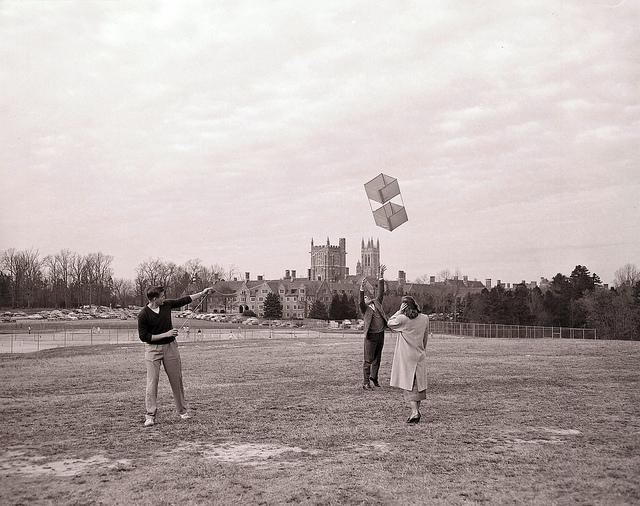car: (242, 318, 260, 326), (210, 315, 228, 322), (29, 314, 43, 320), (46, 316, 58, 321), (66, 316, 78, 320), (100, 315, 110, 318), (118, 308, 124, 311)
